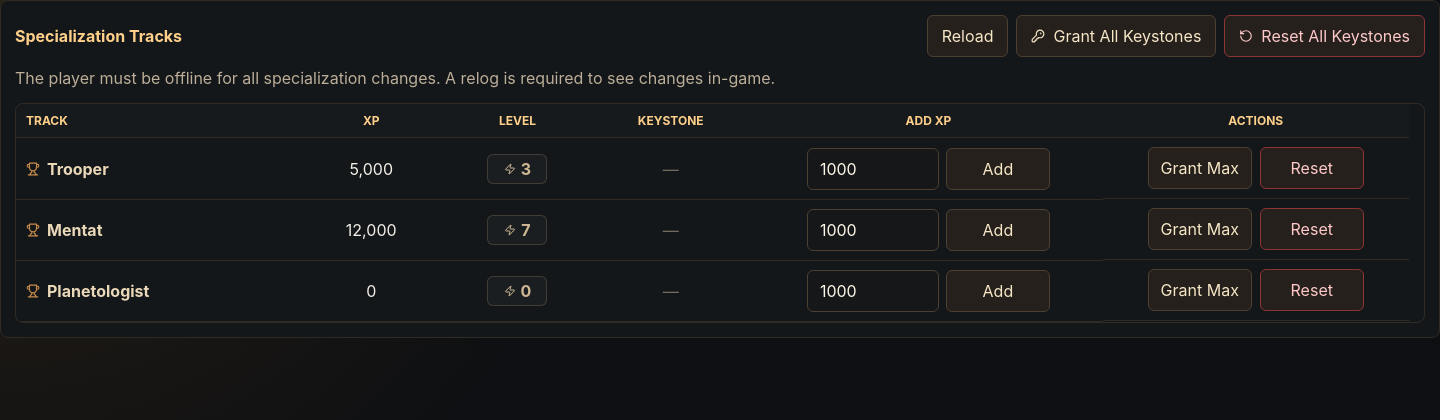
Scenario: SpecializationTab › keystone action feedback › says nothing was reset when the player had no keystones
Expected: the text "Trooper" is shown, 26,159 -> 109,179
Click the button "Reset All Keystones".
click(1325, 36)  # box 1224,15 -> 1425,57
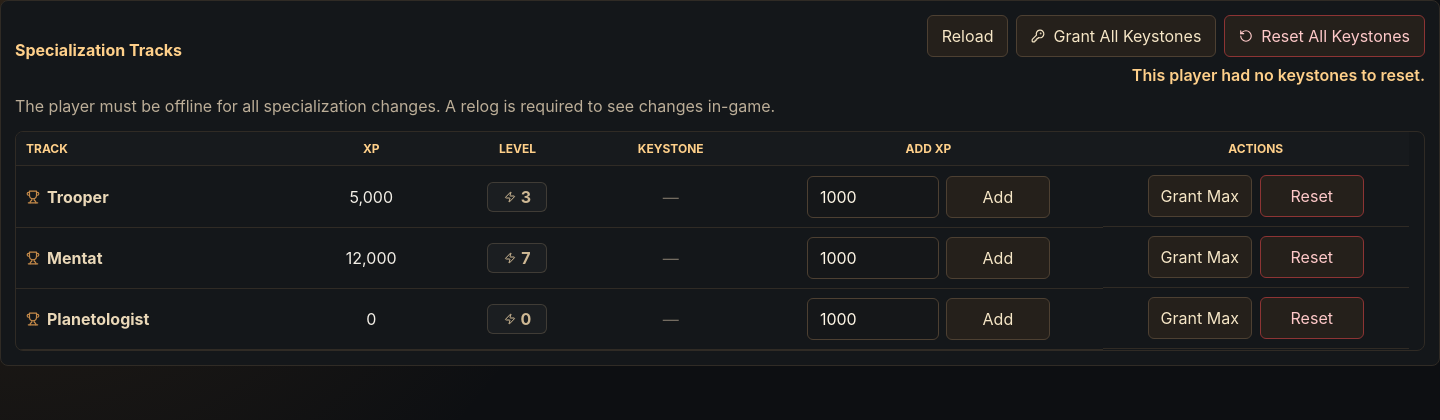
Expected: the text "This player had no keystones to reset." is shown, 1132,65 -> 1425,85
